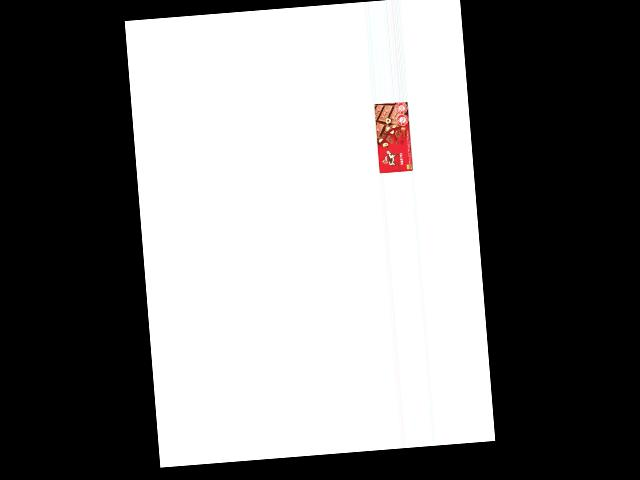chocolate: (373, 101, 413, 173)
